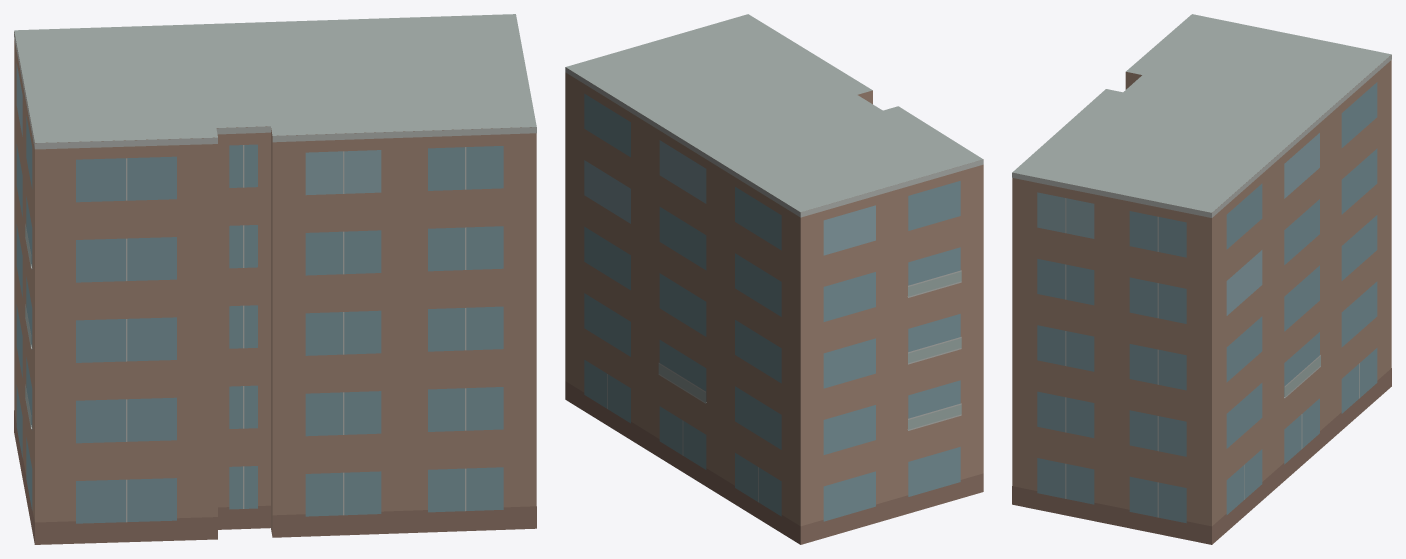
The model's file is survey-upis-32956834.glb.
3 views of the same model, side by side, from view 1: azimuth 30°, elevation 25°; view 2: azimuth 150°, elevation 25°; view 3: azimuth 270°, elevation 25° (orthographic). The views are drawn at different scales.
Visible parts, largest first — view 1: survey-upis-32956834.tmp; view 2: survey-upis-32956834.tmp; view 3: survey-upis-32956834.tmp.
Boxes of the visible parts, <box> form: survey-upis-32956834.tmp: <box>14,14,536,544</box>; survey-upis-32956834.tmp: <box>565,14,983,544</box>; survey-upis-32956834.tmp: <box>1012,14,1391,544</box>.
Size of the model in its own units: 19.79 by 15.4 by 15.97.
